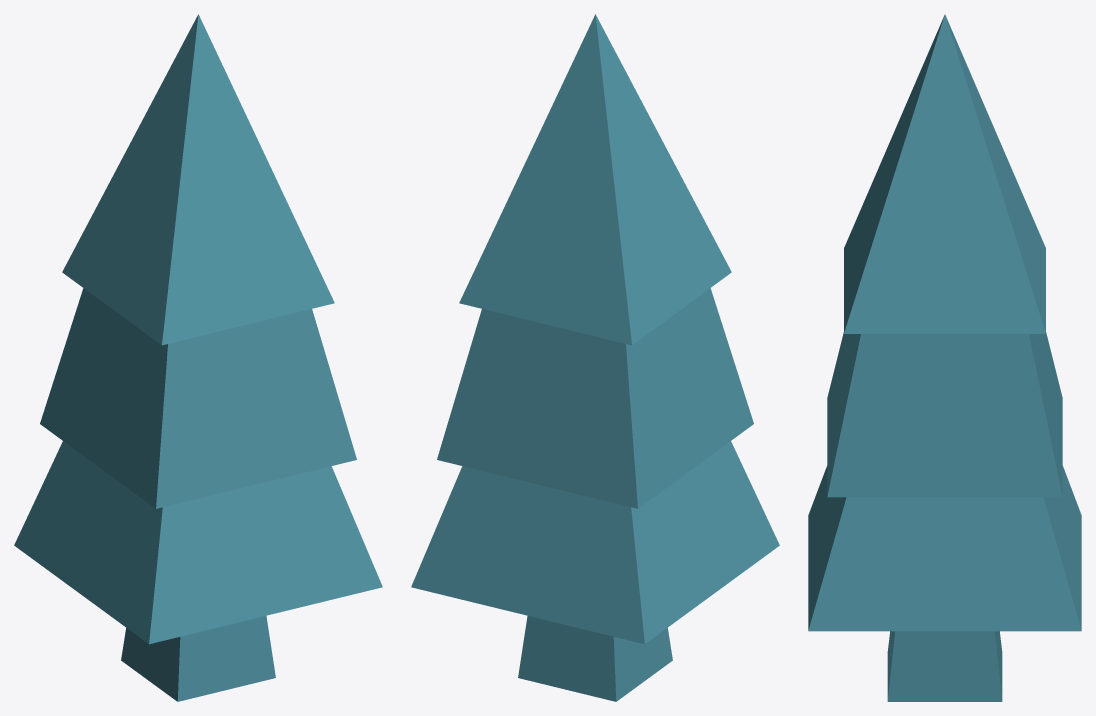
The model's file is tree_pineSmall_square1.fbx.
3 views of the same model, side by side, from view 1: azimuth 30°, elevation 25°; view 2: azimuth 150°, elevation 25°; view 3: azimuth 270°, elevation 25° (orthographic).
Visible parts, largest first — view 1: tree_pineSmall_square1; view 2: tree_pineSmall_square1; view 3: tree_pineSmall_square1.
Part boxes in pixels (x1,y1,x2,y2): tree_pineSmall_square1: (14,14,382,701); tree_pineSmall_square1: (411,14,779,701); tree_pineSmall_square1: (808,14,1081,701).
Size of the model in its own units: 3.57 by 9.56 by 3.57.
